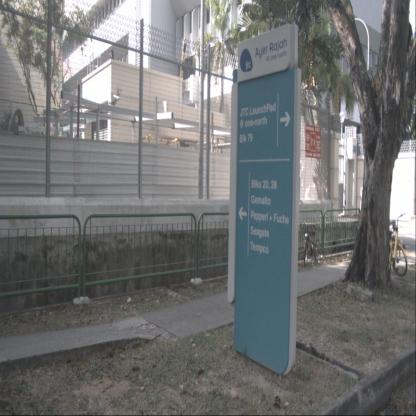vehicle-bicycle: (380, 212, 408, 281), (301, 221, 322, 268)
